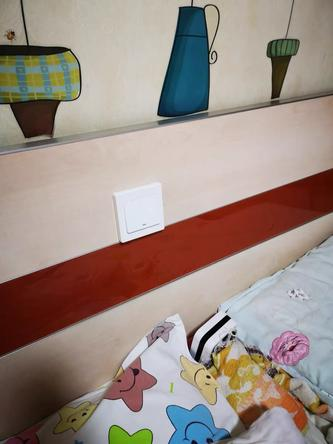switch: (121, 188, 166, 235)
